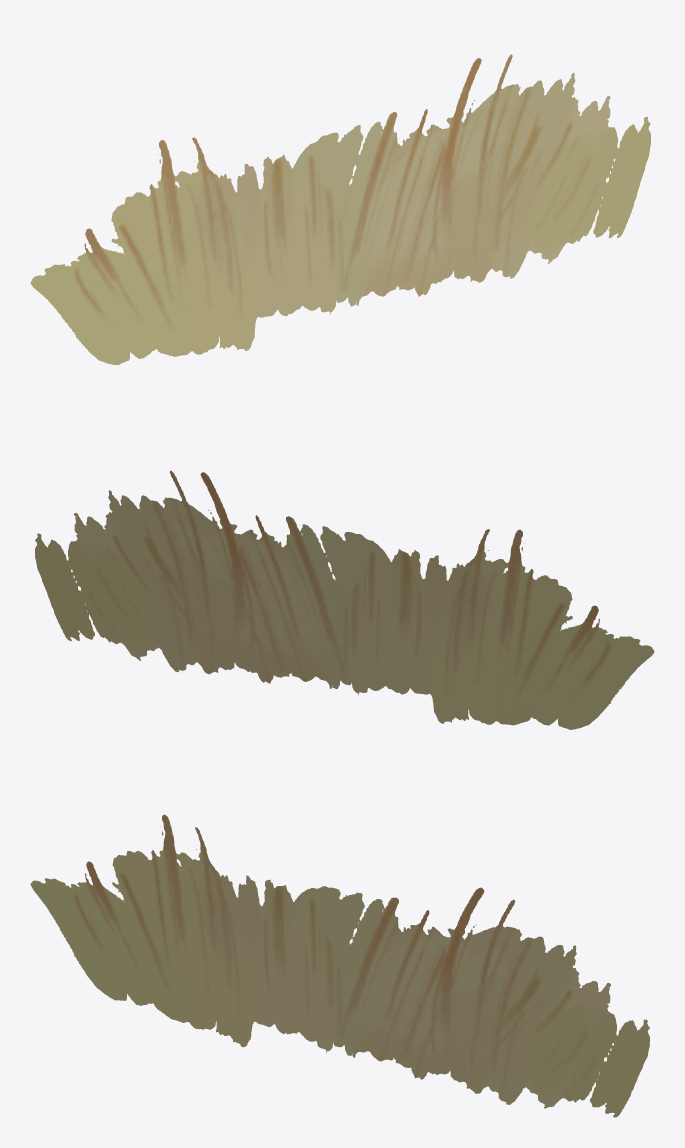
Rendered from grass3_001.fbx.
3 renders of one model, top to bottom at view 1: azimuth 30°, elevation 25°; view 2: azimuth 150°, elevation 25°; view 3: azimuth 330°, elevation 25°, orthographic. The views are drawn at different scales.
Parts seen in each view (by area): view 1: grass3.001; view 2: grass3.001; view 3: grass3.001.
Part boxes in pixels (x1,y1,x2,y2): grass3.001: [30, 54, 650, 365]; grass3.001: [35, 470, 654, 729]; grass3.001: [30, 814, 649, 1117].
Bounding box in the file's own units: 316 × 112 × 22.56.
